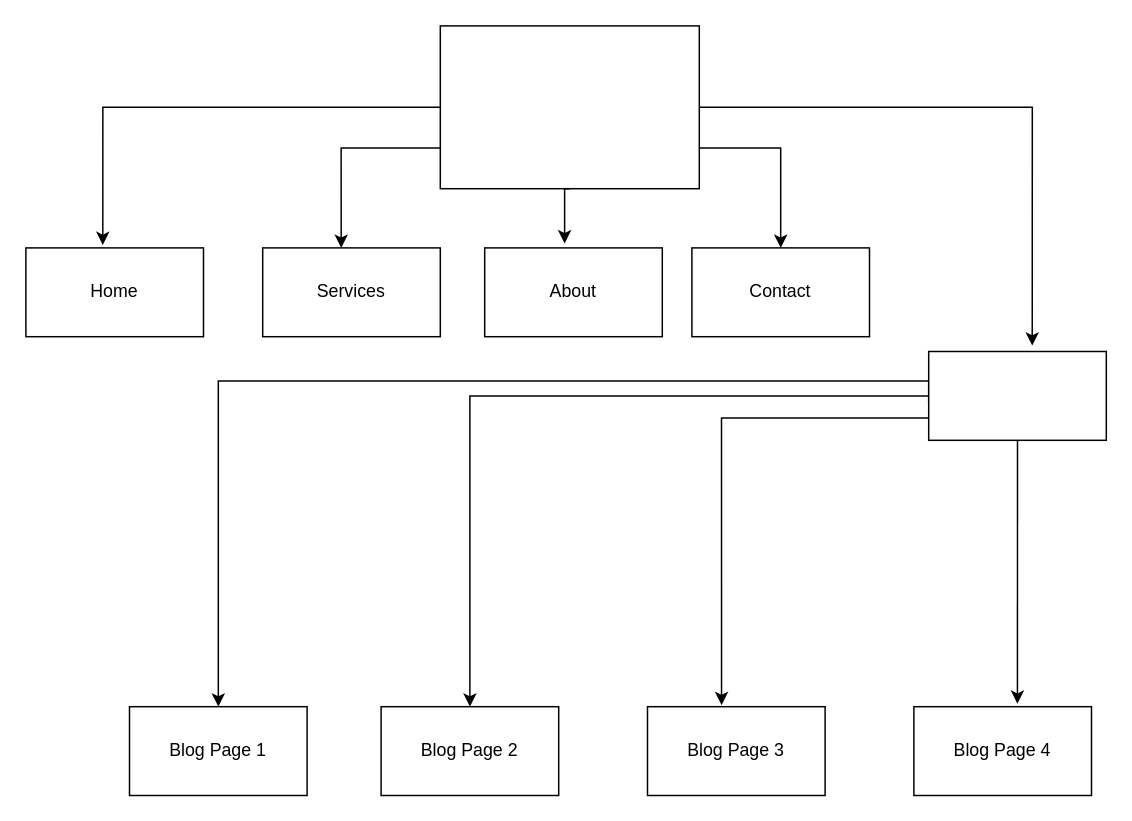
Image size: 1132x821. Some labels were removed from this diagram. The shapes that lost their labels are listed below. From the top down, each one's centre as x and y in pixels, then its label:
At point 569,106: "My Portfolio Website".
At point 1016,395: "Blog".
